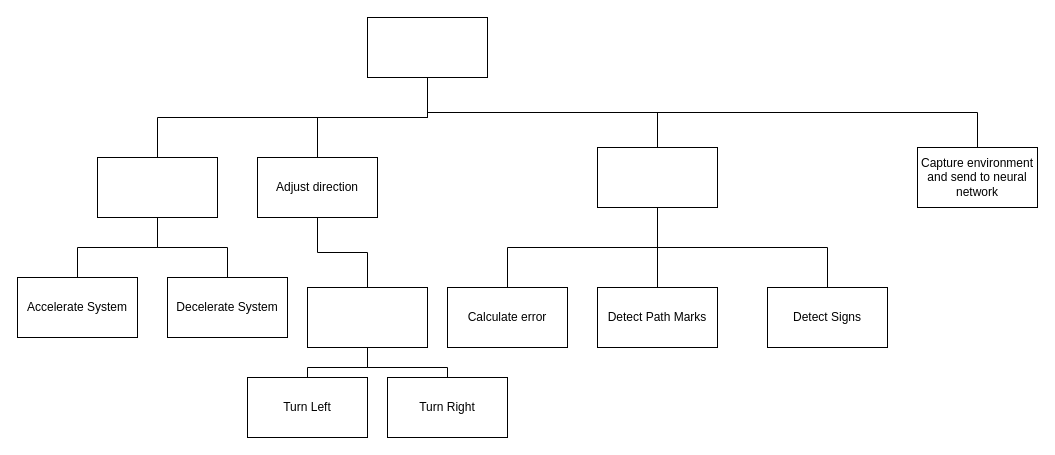
This 1055x455 diagram has some shape labels left out. Each missing label, with the centre of its shape:
"Adjust speed" belongs at point 157,187.
"Adjust yaw" belongs at point 367,317.
"Detect pathway" belongs at point 657,177.
"Drive autonomously around track" belongs at point 427,47.
